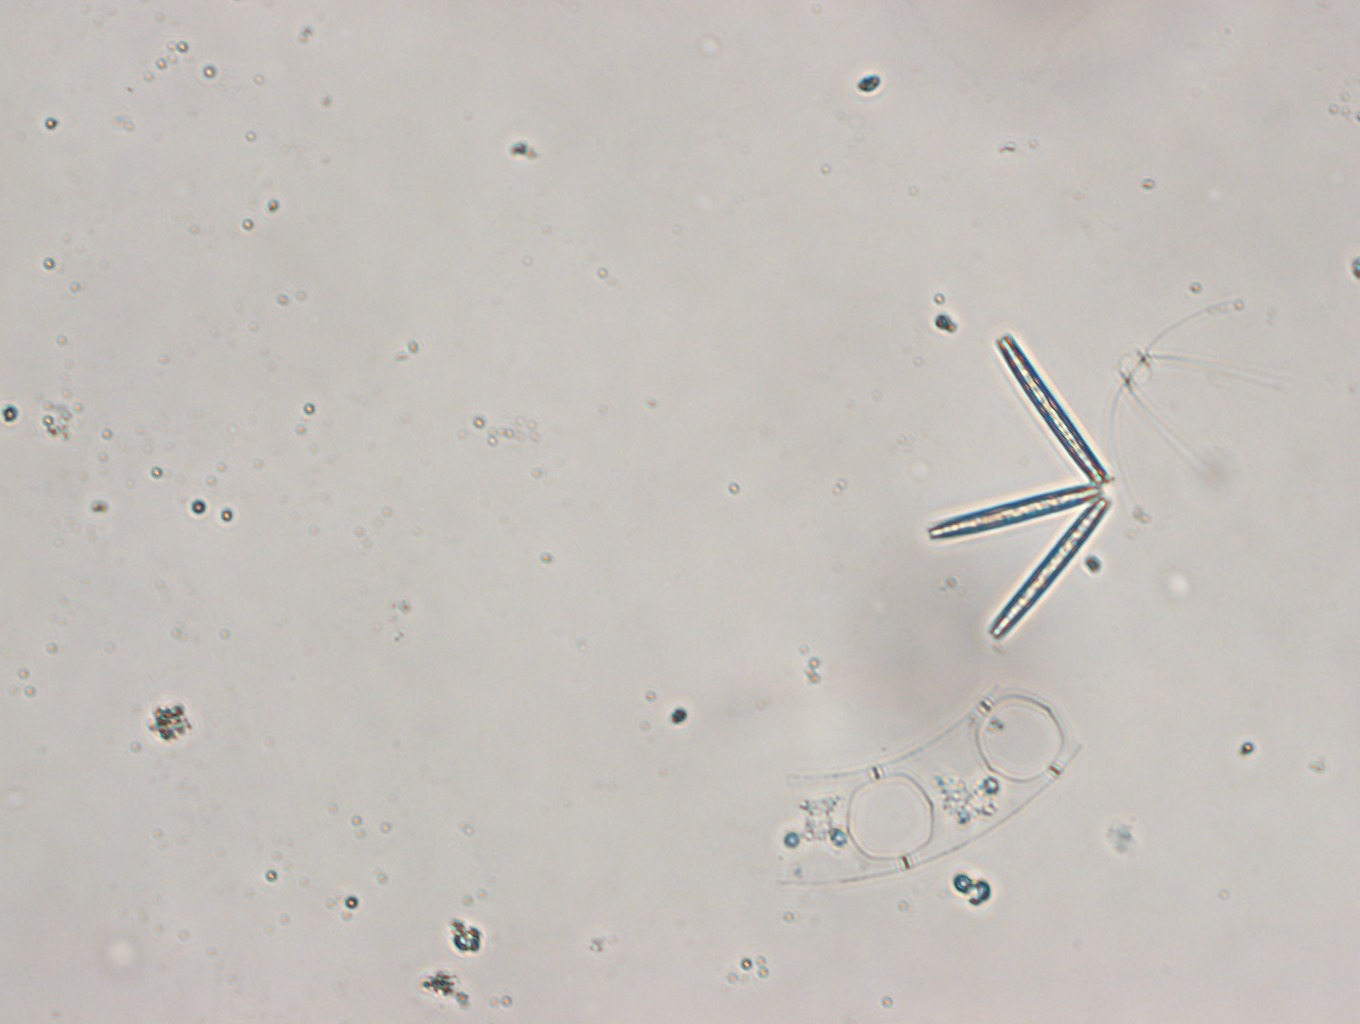chaetoceros: (1115, 291, 1271, 516)
eucampia: (771, 671, 1086, 890)
thalassionema nitzschioides: (921, 325, 1119, 644)
